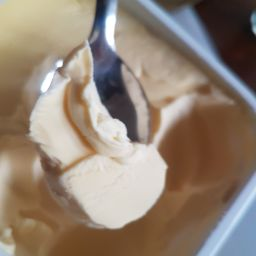Butter: (2, 4, 241, 256)
